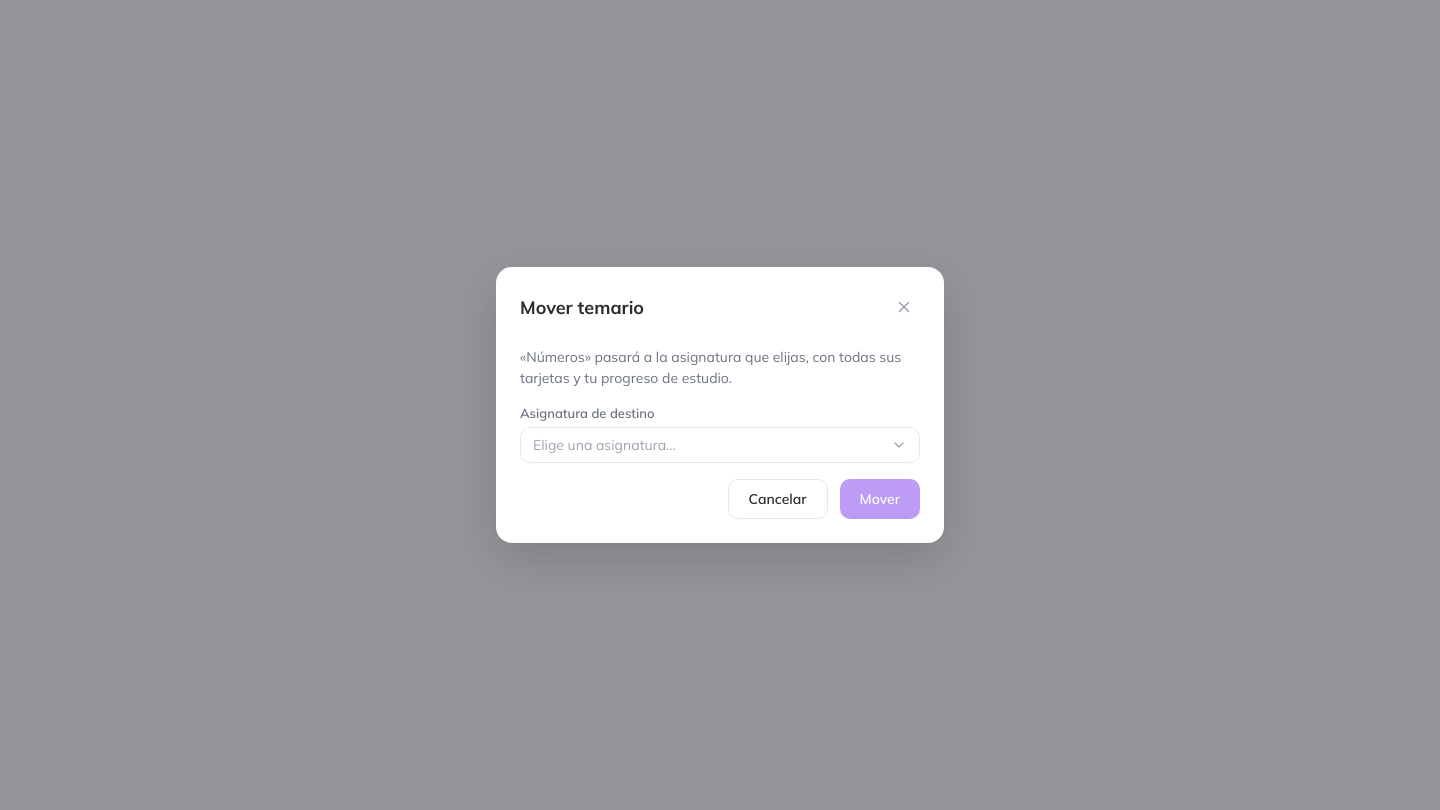
MoveCategoryModal › muestra el error del servidor si el nombre ya existe en el destino
Click the dropdown named "Asignatura de destino" at (604, 445), box [520,427,920,463]
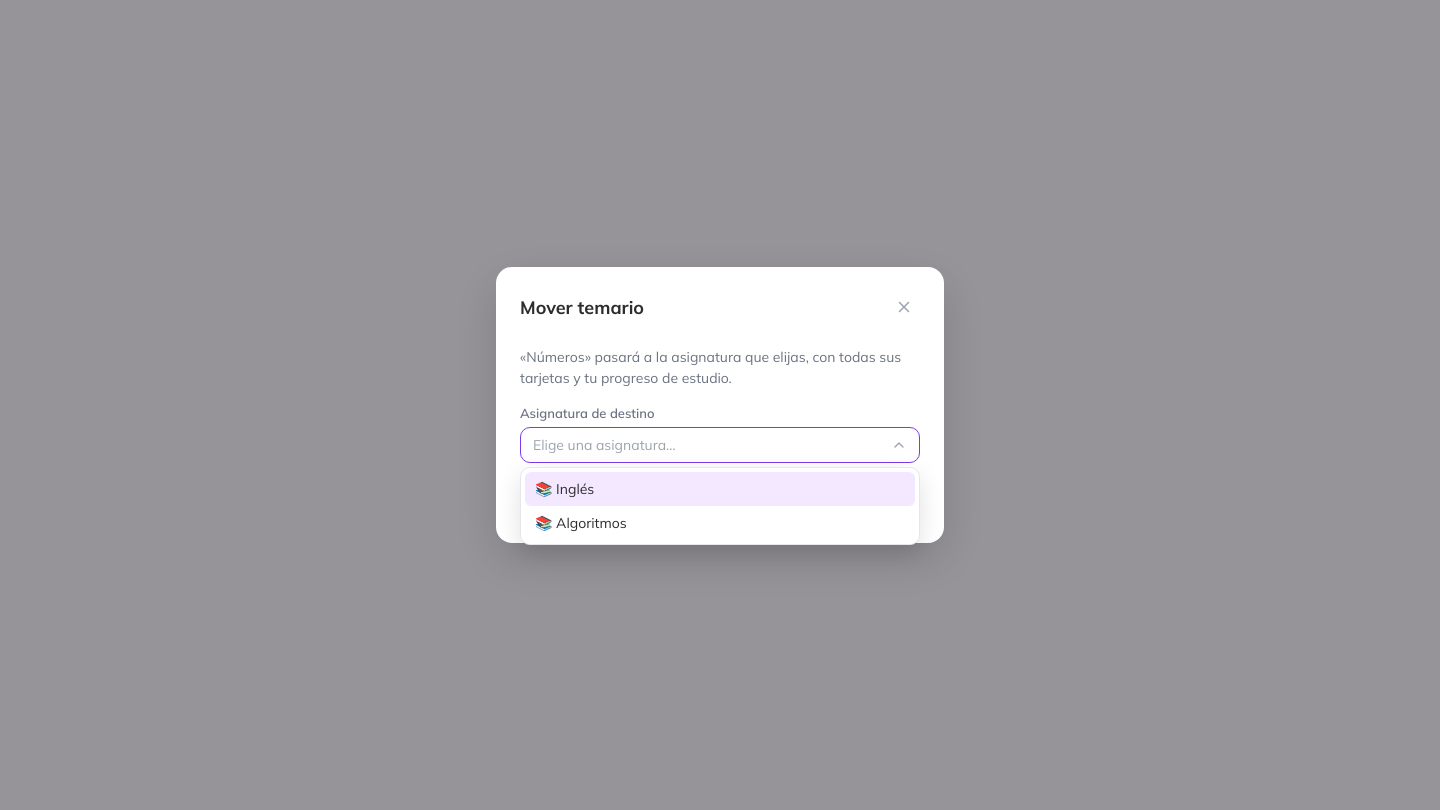
Click the option "📚 Inglés" at (565, 489), box [525,472,915,506]
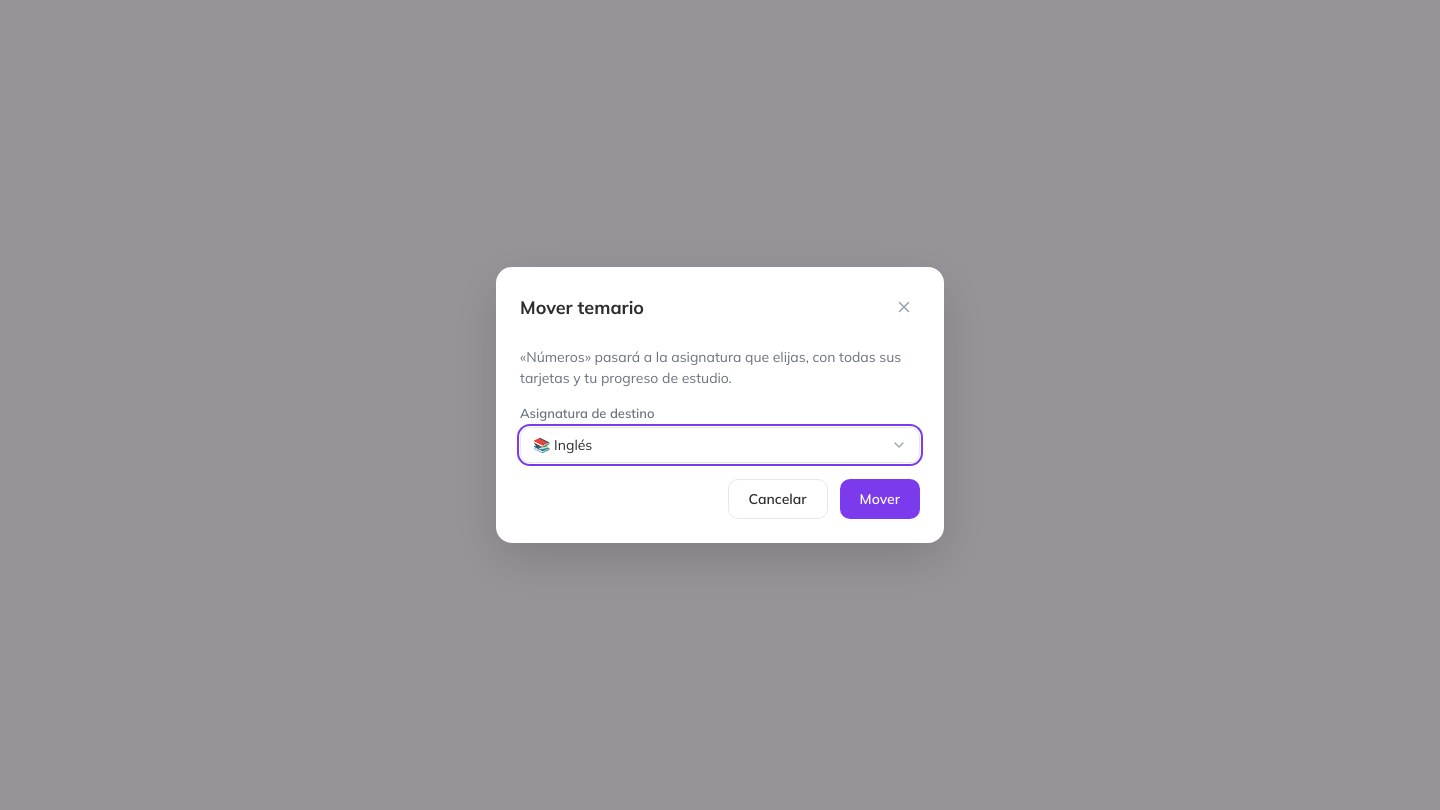
Click the button "Mover" at (880, 499), box [840,479,920,519]
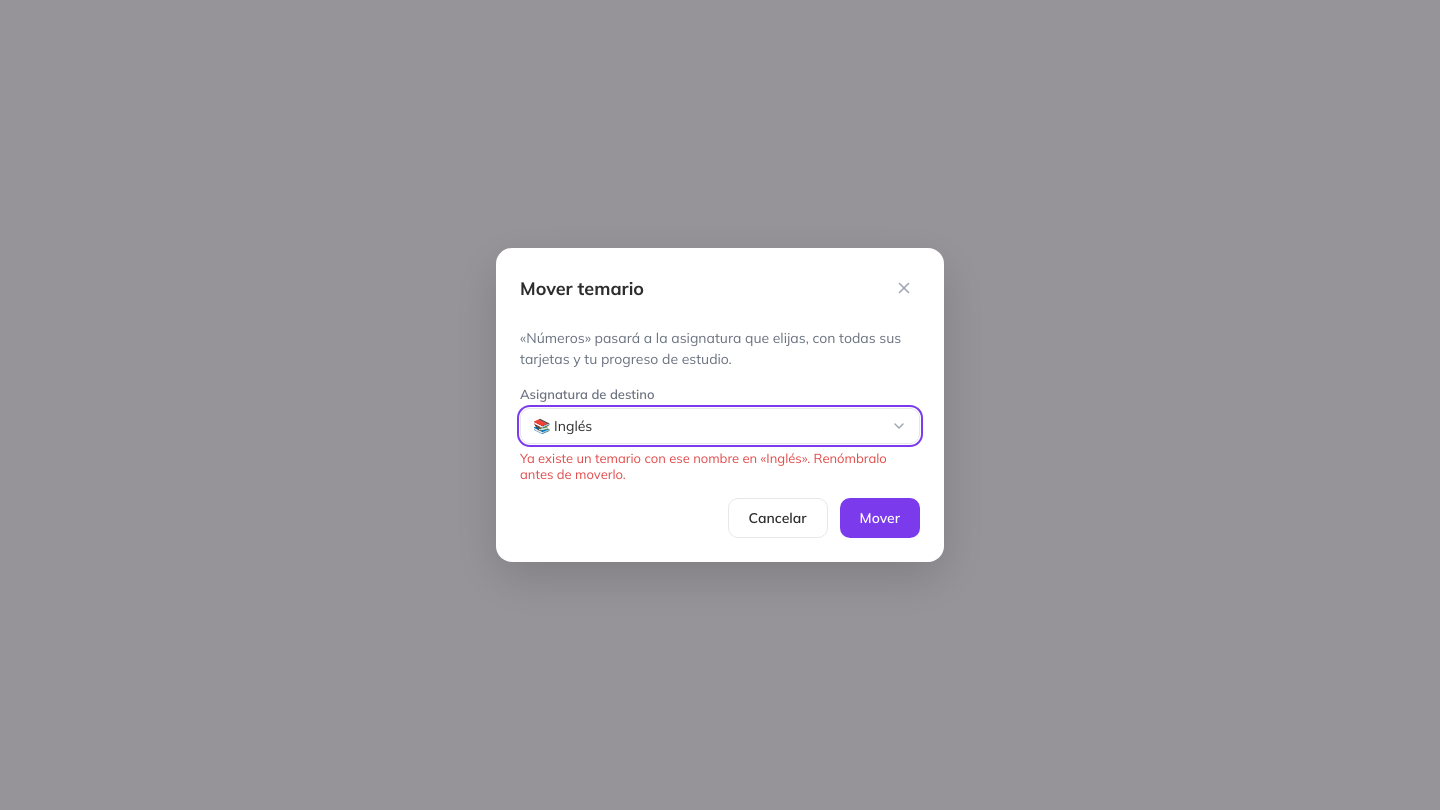
Now the message shows "Ya existe un temario con ese nombre", box [520,450,887,482]
